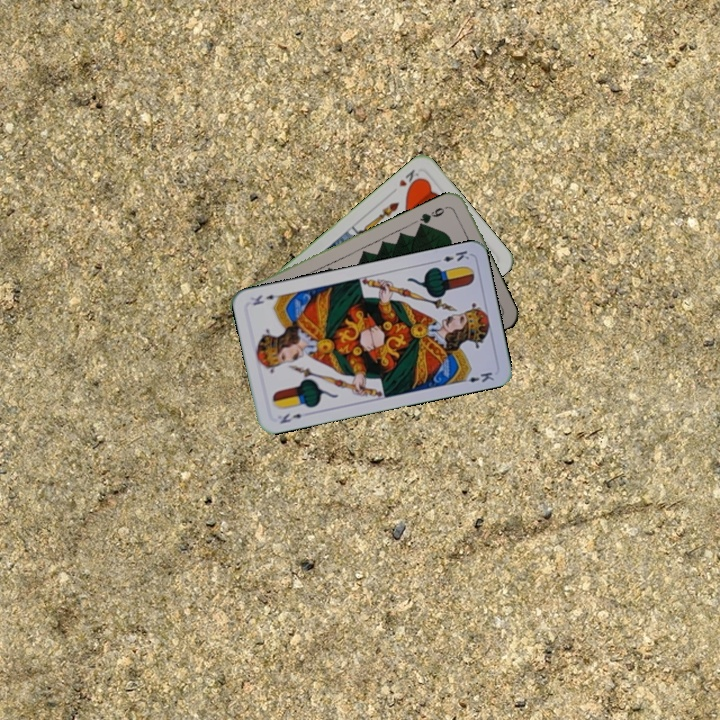EK: (431, 246, 472, 266), (276, 409, 304, 426)
G9: (415, 202, 451, 229)
HK: (395, 165, 425, 192)
